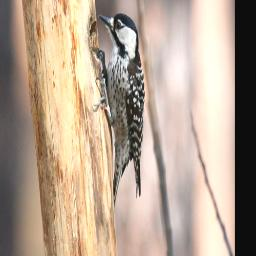Woodpecker: (92, 11, 144, 205)
